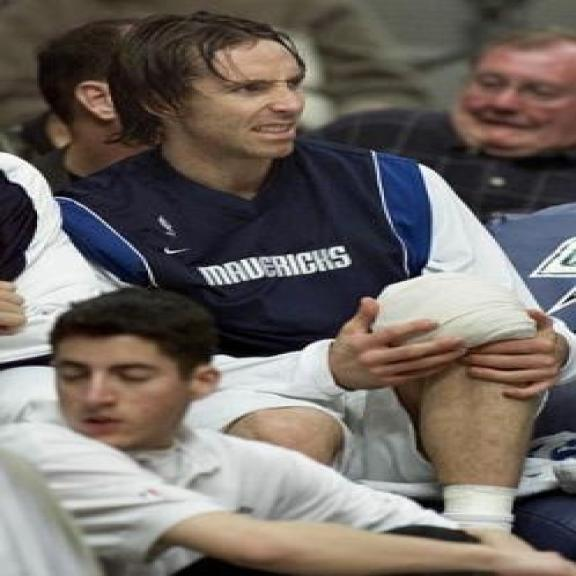face: (45, 325, 231, 453), (155, 43, 308, 158), (467, 37, 576, 158)
